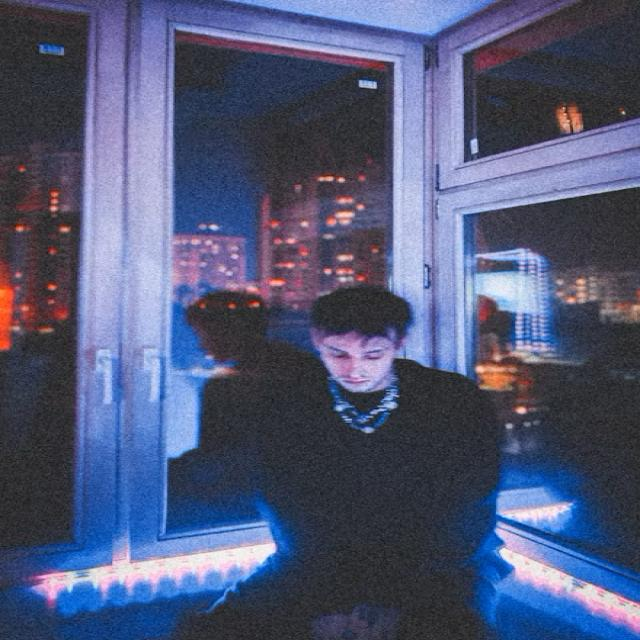Edited images: (204, 272, 550, 640)
